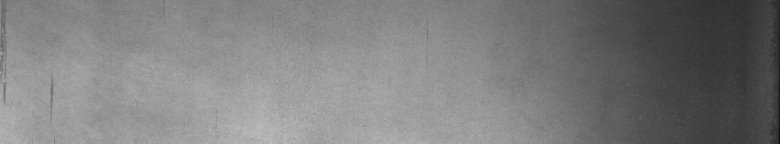ka: (4, 21, 56, 114)
